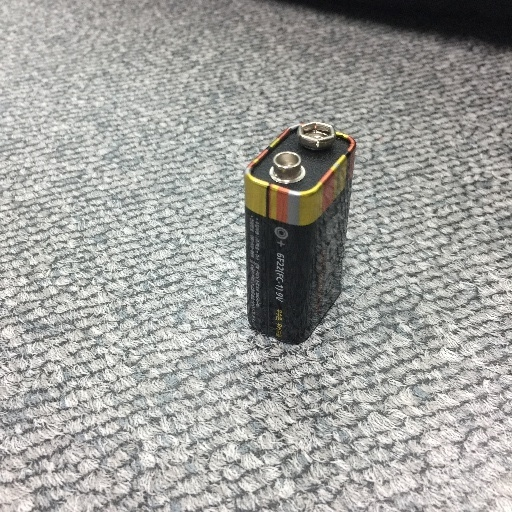Battery_3: (230, 113, 363, 356)
